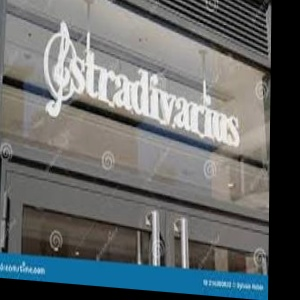stradivarius: (222, 76, 271, 137)
